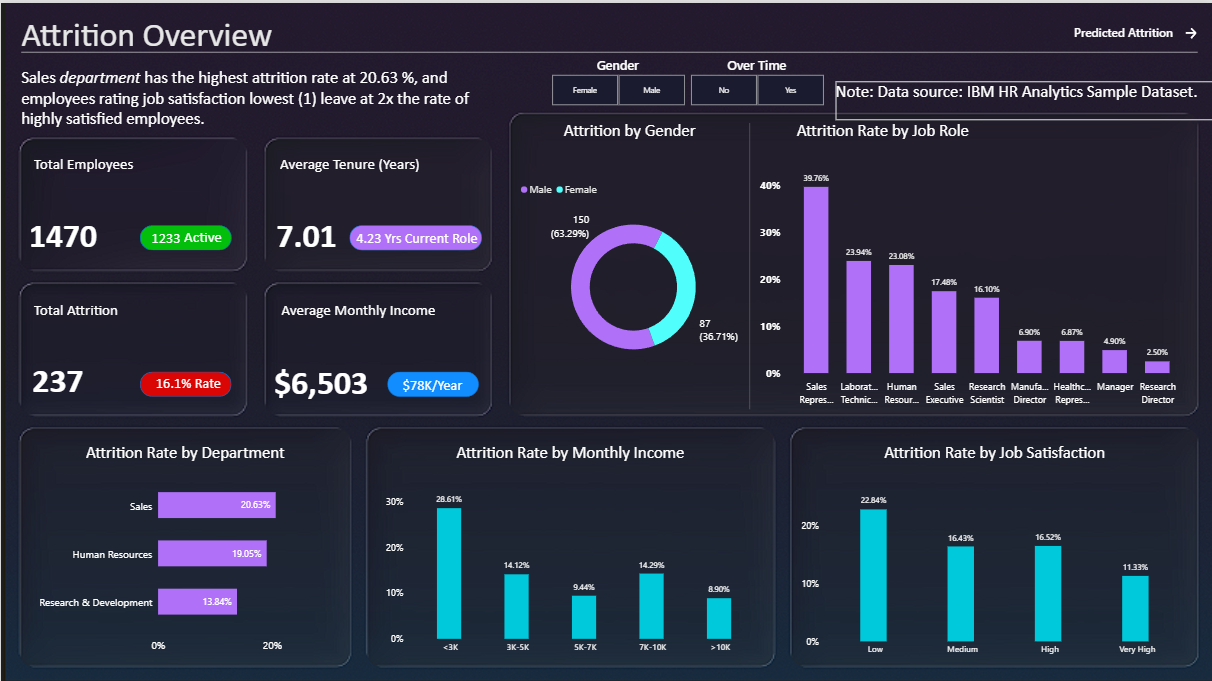

This screenshot's page, from the dashboard's own definition file:
{"tool":"powerbi","page":{"name":"Page 1","canvas":[1920,1080],"ordinal":0},"visuals":[{"type":"card","title":"Total Customers","fields":{"Values":["hr_attrition_dataset.total_employees"]},"box":[8,314,180,100],"z":0},{"type":"card","title":"Total Attrition","fields":{"Values":["hr_attrition_dataset.total_attrition"]},"box":[14,544,152,100],"z":1000},{"type":"textbox","box":[52,240,238,80],"z":2000},{"type":"textbox","box":[52,472,238,68],"z":3000},{"type":"barChart","fields":{"Category":["hr_attrition_dataset.Department"],"Y":["measures (2).attritionrate"]},"box":[32,726,520,324],"z":4000},{"type":"textbox","box":[32,696,520,58],"z":5000},{"type":"shape","box":[220,583.7,145.3,40],"z":6000},{"type":"card","title":"Total Customers","fields":{"Values":["measures (2).attrition%"]},"box":[188,562,218,82],"z":7000},{"type":"shape","box":[220,352.7,145.5,40],"z":8000},{"type":"textbox","box":[442.9,240,307.1,67.1],"z":9000},{"type":"textbox","box":[290,356.4,140.9,40],"z":10000},{"type":"donutChart","fields":{"Category":["hr_attrition_dataset.Gender"],"Y":["measures (2).total_attrition"]},"box":[806,264,392,340],"z":11000},{"type":"textbox","box":[32,18,562,132],"z":12000},{"type":"card","title":"Total Attrition","fields":{"Values":["Avg(hr_attrition_dataset.MonthlyIncome)"]},"box":[400,548,214,100],"z":13000},{"type":"shape","box":[611.7,583.3,145,40],"z":14000},{"type":"textbox","box":[443.3,472.6,333.4,67.8],"z":15000},{"type":"card","title":"Total Attrition","fields":{"Values":["measures (2).avg_anual_income"]},"box":[618,556,132,100],"z":16000},{"type":"card","title":"Total Customers","fields":{"Values":["hr_attrition_dataset.active_employees"]},"box":[206.4,348.2,110.9,50],"z":17000},{"type":"card","title":"Total Customers","fields":{"Values":["measures (2).avg_tenure"]},"box":[416,316,136,98],"z":18000},{"type":"shape","box":[552,352,210,40],"z":19000},{"type":"card","title":"Total Attrition","fields":{"Values":["measures (2).years_in_curr_role"]},"box":[530,348,258,50],"z":20000},{"type":"textbox","box":[806,186,380,54],"z":21000},{"type":"shape","box":[1108,190,156,454],"z":22000},{"type":"clusteredColumnChart","fields":{"Category":["hr_attrition_dataset.JobRole"],"Y":["measures (2).attritionrate"]},"box":[1186,240,710,416],"z":23000},{"type":"textbox","box":[1252,186,290,54],"z":24000},{"type":"columnChart","fields":{"Y":["measures (2).attritionrate"],"Category":["hr_attrition_dataset.Custom"]},"box":[1252,754,644,300],"z":25000},{"type":"textbox","box":[1252,696,644,58],"z":26000},{"type":"lineStackedColumnComboChart","fields":{"Category":["hr_attrition_dataset.Salary_bucket"],"Y":["measures (2).attritionrate"]},"box":[594,750,626,300],"z":27000},{"type":"textbox","box":[32,102,774,112],"z":28000},{"type":"slicer","title":"Gender","fields":{"Values":["hr_attrition_dataset.Gender"]},"box":[852,84,250,80],"z":29000},{"type":"slicer","title":"Over Time","fields":{"Values":["hr_attrition_dataset.OverTime"]},"box":[1072,84,250,80],"z":30000},{"type":"textbox","box":[1322,124,598,62],"z":31000},{"type":"shape","box":[32,62,1864,32],"z":32000},{"type":"actionButton","box":[1688,16,208,62],"z":33000},{"type":"textbox","box":[642,696,520,54],"z":34000}]}

Visuals, with their boxes in screenshot pixels (x1, y1, x2, y2), scaled from the page's 1920x1080 canvas onto the 1212x681 screenshot:
"Total Customers" card: pyautogui.locateOnScreen(5, 198, 119, 261)
"Total Attrition" card: pyautogui.locateOnScreen(9, 343, 105, 406)
textbox: pyautogui.locateOnScreen(33, 151, 183, 202)
textbox: pyautogui.locateOnScreen(33, 298, 183, 340)
barChart - hr_attrition_dataset.Department x measures (2).attritionrate: pyautogui.locateOnScreen(20, 458, 348, 662)
textbox: pyautogui.locateOnScreen(20, 439, 348, 475)
shape: pyautogui.locateOnScreen(139, 368, 231, 393)
"Total Customers" card: pyautogui.locateOnScreen(119, 354, 256, 406)
shape: pyautogui.locateOnScreen(139, 222, 231, 248)
textbox: pyautogui.locateOnScreen(280, 151, 473, 194)
textbox: pyautogui.locateOnScreen(183, 225, 272, 250)
donutChart - hr_attrition_dataset.Gender x measures (2).total_attrition: pyautogui.locateOnScreen(509, 166, 756, 381)
textbox: pyautogui.locateOnScreen(20, 11, 375, 95)
"Total Attrition" card: pyautogui.locateOnScreen(252, 346, 388, 409)
shape: pyautogui.locateOnScreen(386, 368, 478, 393)
textbox: pyautogui.locateOnScreen(280, 298, 490, 341)
"Total Attrition" card: pyautogui.locateOnScreen(390, 351, 473, 414)
"Total Customers" card: pyautogui.locateOnScreen(130, 220, 200, 251)
"Total Customers" card: pyautogui.locateOnScreen(263, 199, 348, 261)
shape: pyautogui.locateOnScreen(348, 222, 481, 247)
"Total Attrition" card: pyautogui.locateOnScreen(335, 219, 497, 251)
textbox: pyautogui.locateOnScreen(509, 117, 749, 151)
shape: pyautogui.locateOnScreen(699, 120, 798, 406)
clusteredColumnChart - hr_attrition_dataset.JobRole x measures (2).attritionrate: pyautogui.locateOnScreen(749, 151, 1197, 414)
textbox: pyautogui.locateOnScreen(790, 117, 973, 151)
columnChart - measures (2).attritionrate x hr_attrition_dataset.Custom: pyautogui.locateOnScreen(790, 475, 1197, 665)
textbox: pyautogui.locateOnScreen(790, 439, 1197, 475)
lineStackedColumnComboChart - hr_attrition_dataset.Salary_bucket x measures (2).attritionrate: pyautogui.locateOnScreen(375, 473, 770, 662)
textbox: pyautogui.locateOnScreen(20, 64, 509, 135)
"Gender" slicer: pyautogui.locateOnScreen(538, 53, 696, 103)
"Over Time" slicer: pyautogui.locateOnScreen(677, 53, 835, 103)
textbox: pyautogui.locateOnScreen(835, 78, 1211, 117)
shape: pyautogui.locateOnScreen(20, 39, 1197, 59)
actionButton: pyautogui.locateOnScreen(1066, 10, 1197, 49)
textbox: pyautogui.locateOnScreen(405, 439, 734, 473)
